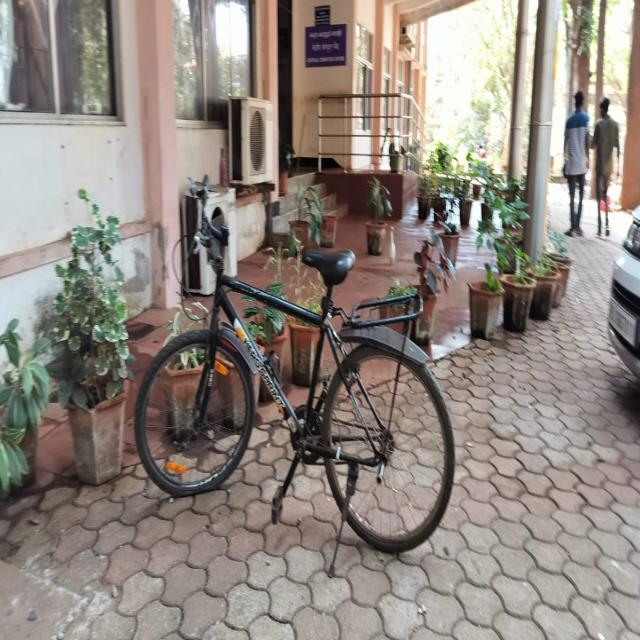bicycle ahead at: (144, 168, 456, 577)
plant ahead at: (54, 197, 137, 483)
